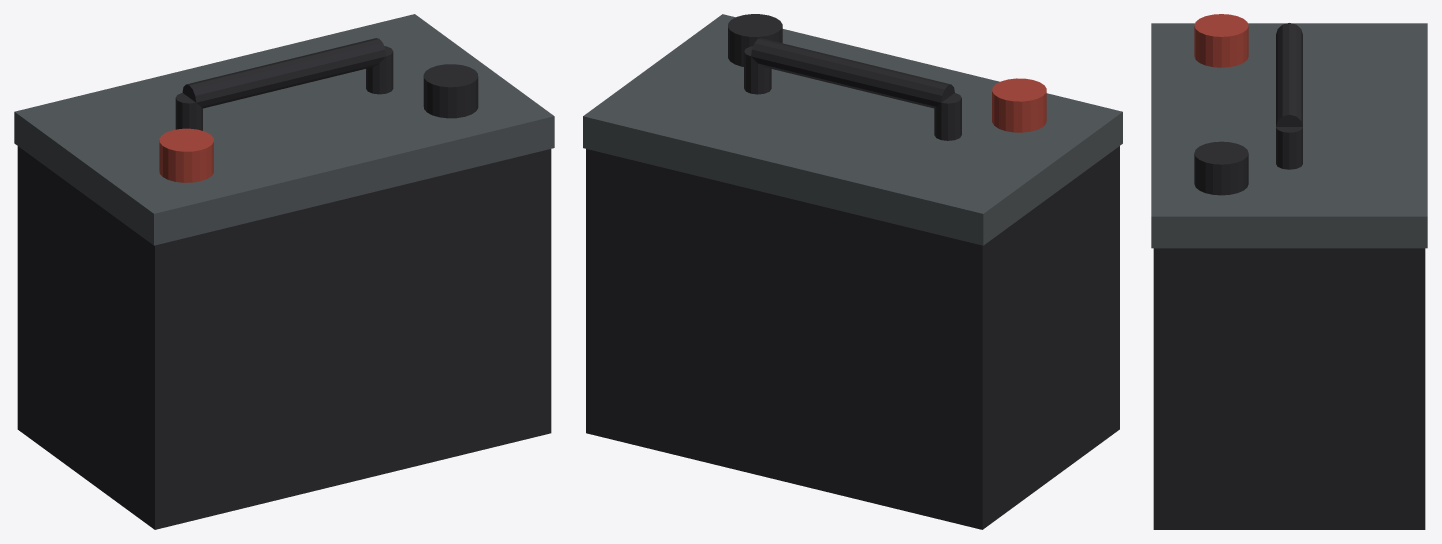
The model's file is STOCK_Battery.glb.
3 renders of one model, left to right at view 1: azimuth 30°, elevation 25°; view 2: azimuth 150°, elevation 25°; view 3: azimuth 270°, elevation 25°, orthographic.
Visible parts, largest first — view 1: Case, Lid, CarryHandle, Negative, Positive; view 2: Case, Lid, CarryHandle, Positive, Negative; view 3: Case, Lid, CarryHandle, Positive, Negative.
Part boxes in pixels (x1=…): Case: x1=17, y1=146, x2=551, y2=529; Lid: x1=14, y1=14, x2=554, y2=245; CarryHandle: x1=175, y1=38, x2=393, y2=130; Negative: x1=423, y1=64, x2=478, y2=118; Positive: x1=159, y1=128, x2=213, y2=182; Case: x1=586, y1=146, x2=1119, y2=529; Lid: x1=583, y1=14, x2=1122, y2=245; CarryHandle: x1=744, y1=38, x2=961, y2=140; Positive: x1=992, y1=78, x2=1046, y2=132; Negative: x1=728, y1=14, x2=782, y2=66; Case: x1=1153, y1=248, x2=1425, y2=529; Lid: x1=1151, y1=23, x2=1427, y2=248; CarryHandle: x1=1276, y1=23, x2=1302, y2=169; Positive: x1=1194, y1=14, x2=1248, y2=67; Negative: x1=1194, y1=141, x2=1248, y2=195.
Size of the model in its own units: 0.303 by 0.267 by 0.183.
